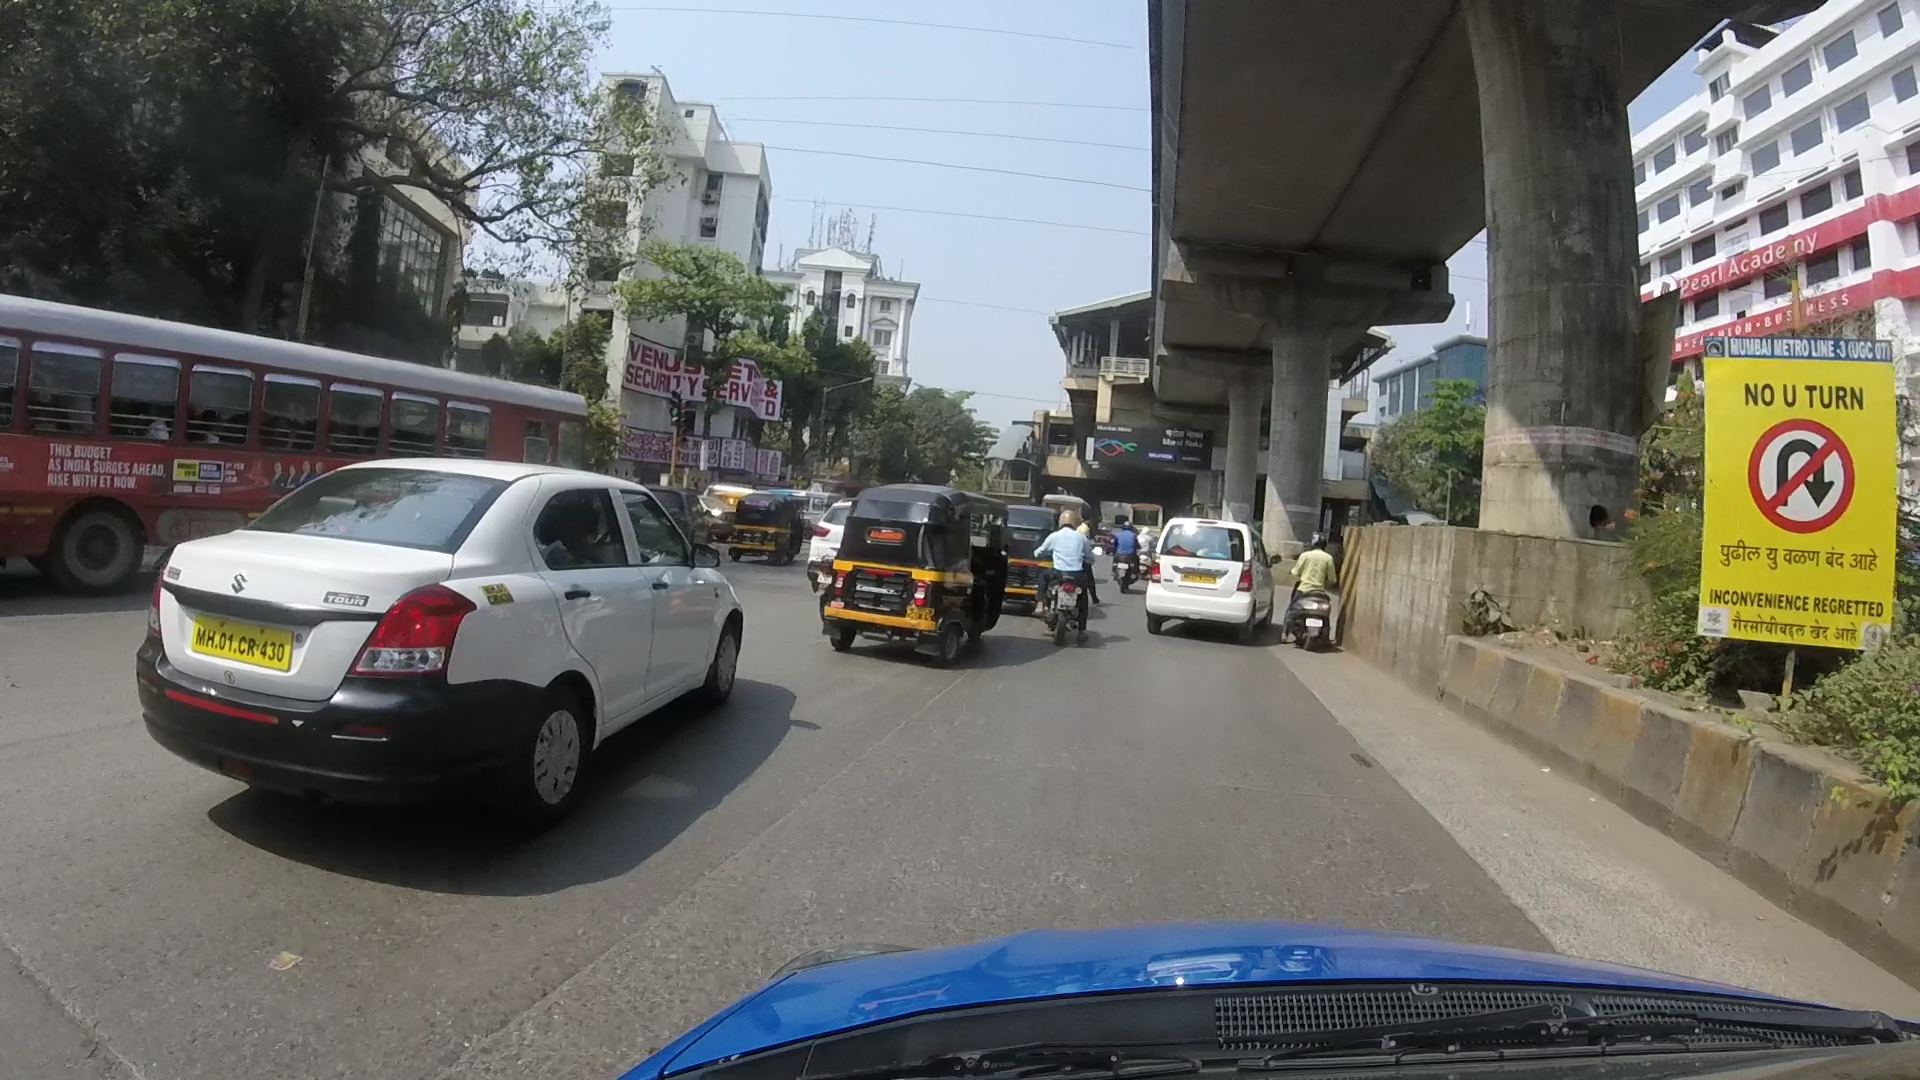bike/scooter: (1292, 506, 1367, 675), (1030, 501, 1106, 663)
bus: (7, 281, 611, 563)
car: (133, 434, 765, 807), (1142, 498, 1276, 657)
rickshaw: (815, 469, 1011, 680)
